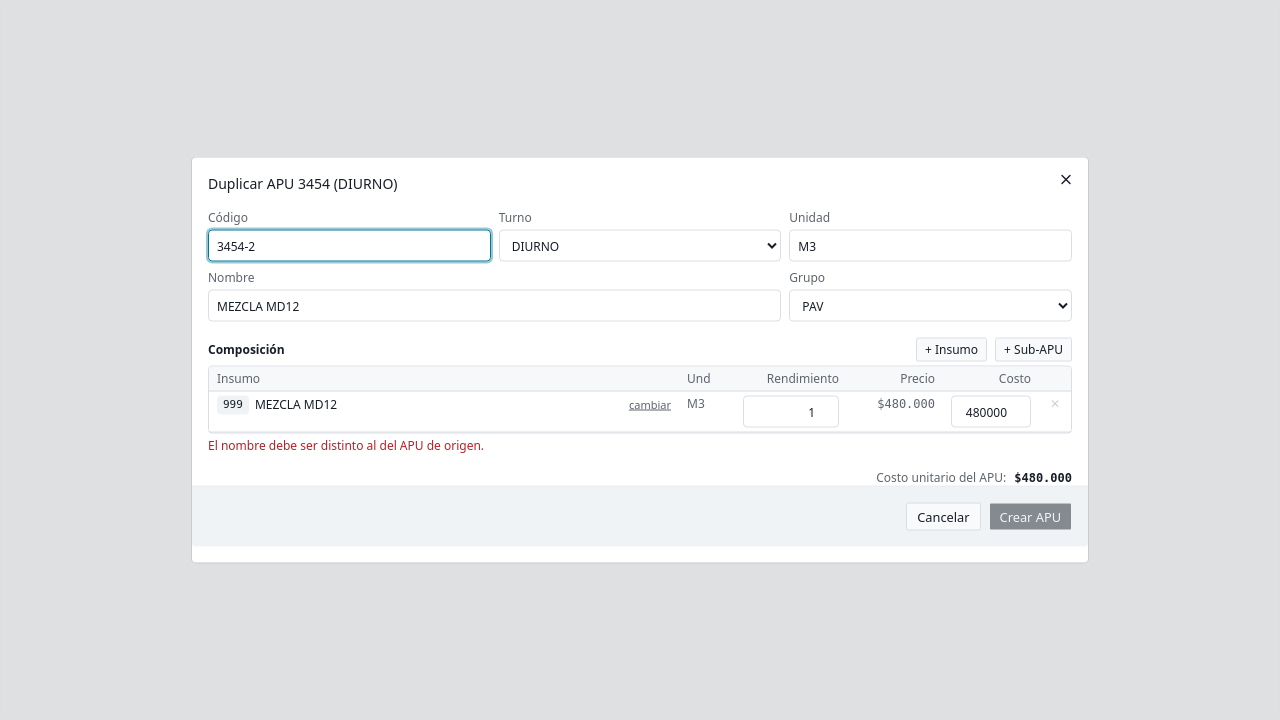
Test case: modo duplicar recalcula el código al cambiar el turno si no lo tocaste
Check: the field showing "3454-2" is shown, box [208,230,491,262]
Select "NOCTURNO" in the dropdown showing "DIURNO" at x=640, y=246, box [499,230,781,262]
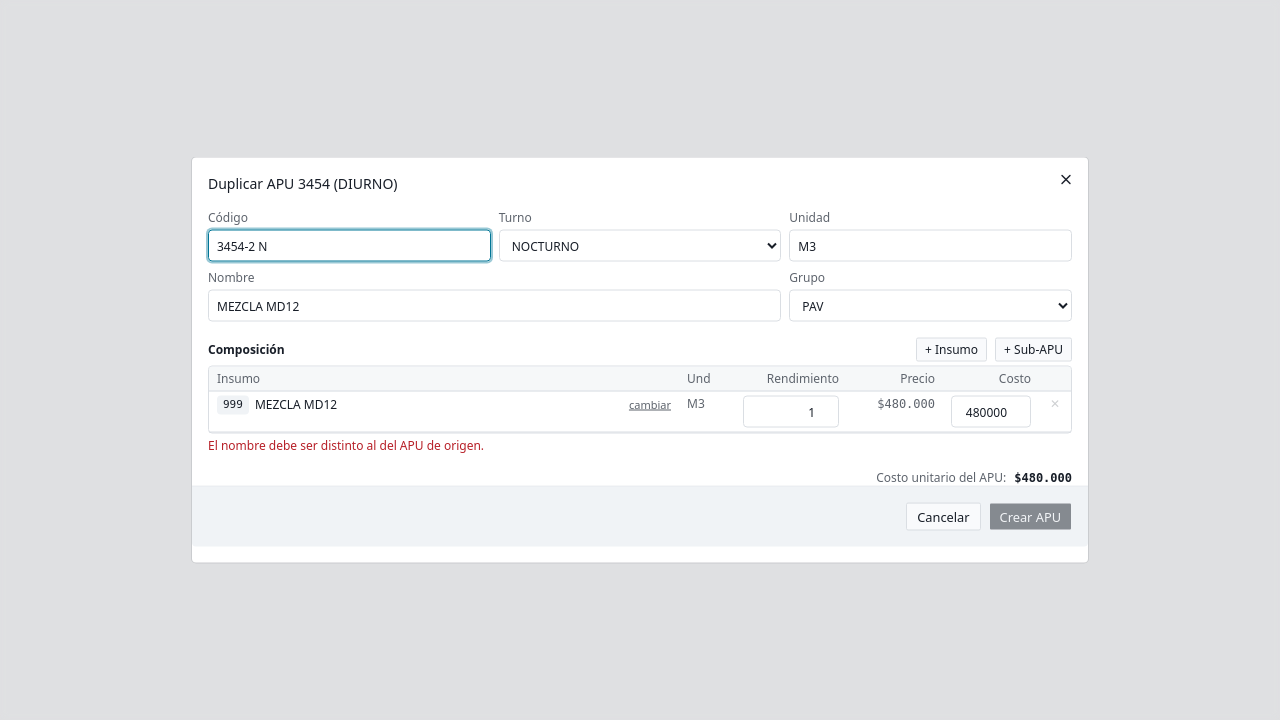
Check: the field showing "3454-2 N" is shown, box [208,230,491,262]
